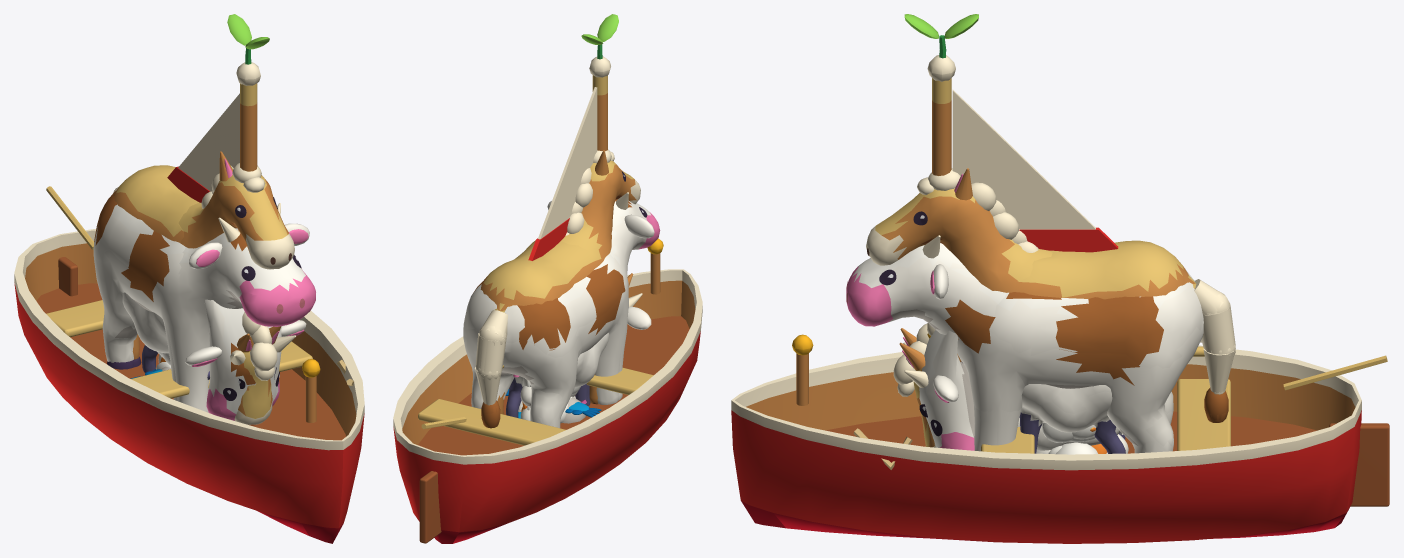
File: kingdom_life_kit.glb
3 views of the same model, side by side, from view 1: azimuth 30°, elevation 25°; view 2: azimuth 150°, elevation 25°; view 3: azimuth 270°, elevation 25° (orthographic). The views are drawn at different scales.
Visible parts, largest first — view 1: KL_Boat, KL_Cow, KL_Cow_Graze, KL_Pony_Graze, KL_Pony, KL_Sheep, KL_Sheep_Graze; view 2: KL_Boat, KL_Cow_Graze, KL_Cow, KL_Pony_Graze, KL_Pony, KL_Sheep, KL_Sheep_Graze; view 3: KL_Boat, KL_Cow, KL_Cow_Graze, KL_Pony_Graze, KL_Pony, KL_Sheep, KL_Sheep_Graze.
Boxes of the visible parts, left/top/right/bottom form: KL_Boat: left=14, top=14, right=364, bottom=543; KL_Cow: left=93, top=203, right=315, bottom=412; KL_Cow_Graze: left=93, top=190, right=306, bottom=420; KL_Pony_Graze: left=113, top=165, right=281, bottom=424; KL_Pony: left=132, top=151, right=294, bottom=359; KL_Sheep: left=122, top=296, right=168, bottom=371; KL_Sheep_Graze: left=122, top=292, right=209, bottom=379; KL_Boat: left=393, top=14, right=702, bottom=543; KL_Cow_Graze: left=463, top=254, right=651, bottom=425; KL_Cow: left=463, top=192, right=660, bottom=428; KL_Pony_Graze: left=474, top=240, right=633, bottom=414; KL_Pony: left=478, top=149, right=640, bottom=414; KL_Sheep: left=506, top=337, right=608, bottom=417; KL_Sheep_Graze: left=506, top=332, right=609, bottom=417; KL_Boat: left=731, top=14, right=1389, bottom=543; KL_Cow: left=846, top=235, right=1228, bottom=452; KL_Cow_Graze: left=903, top=269, right=1228, bottom=453; KL_Pony_Graze: left=893, top=240, right=1235, bottom=447; KL_Pony: left=866, top=168, right=1235, bottom=392; KL_Sheep: left=961, top=361, right=1125, bottom=453; KL_Sheep_Graze: left=1021, top=384, right=1125, bottom=453.
Size of the model in its own units: 1.6 by 3.14 by 3.69.
